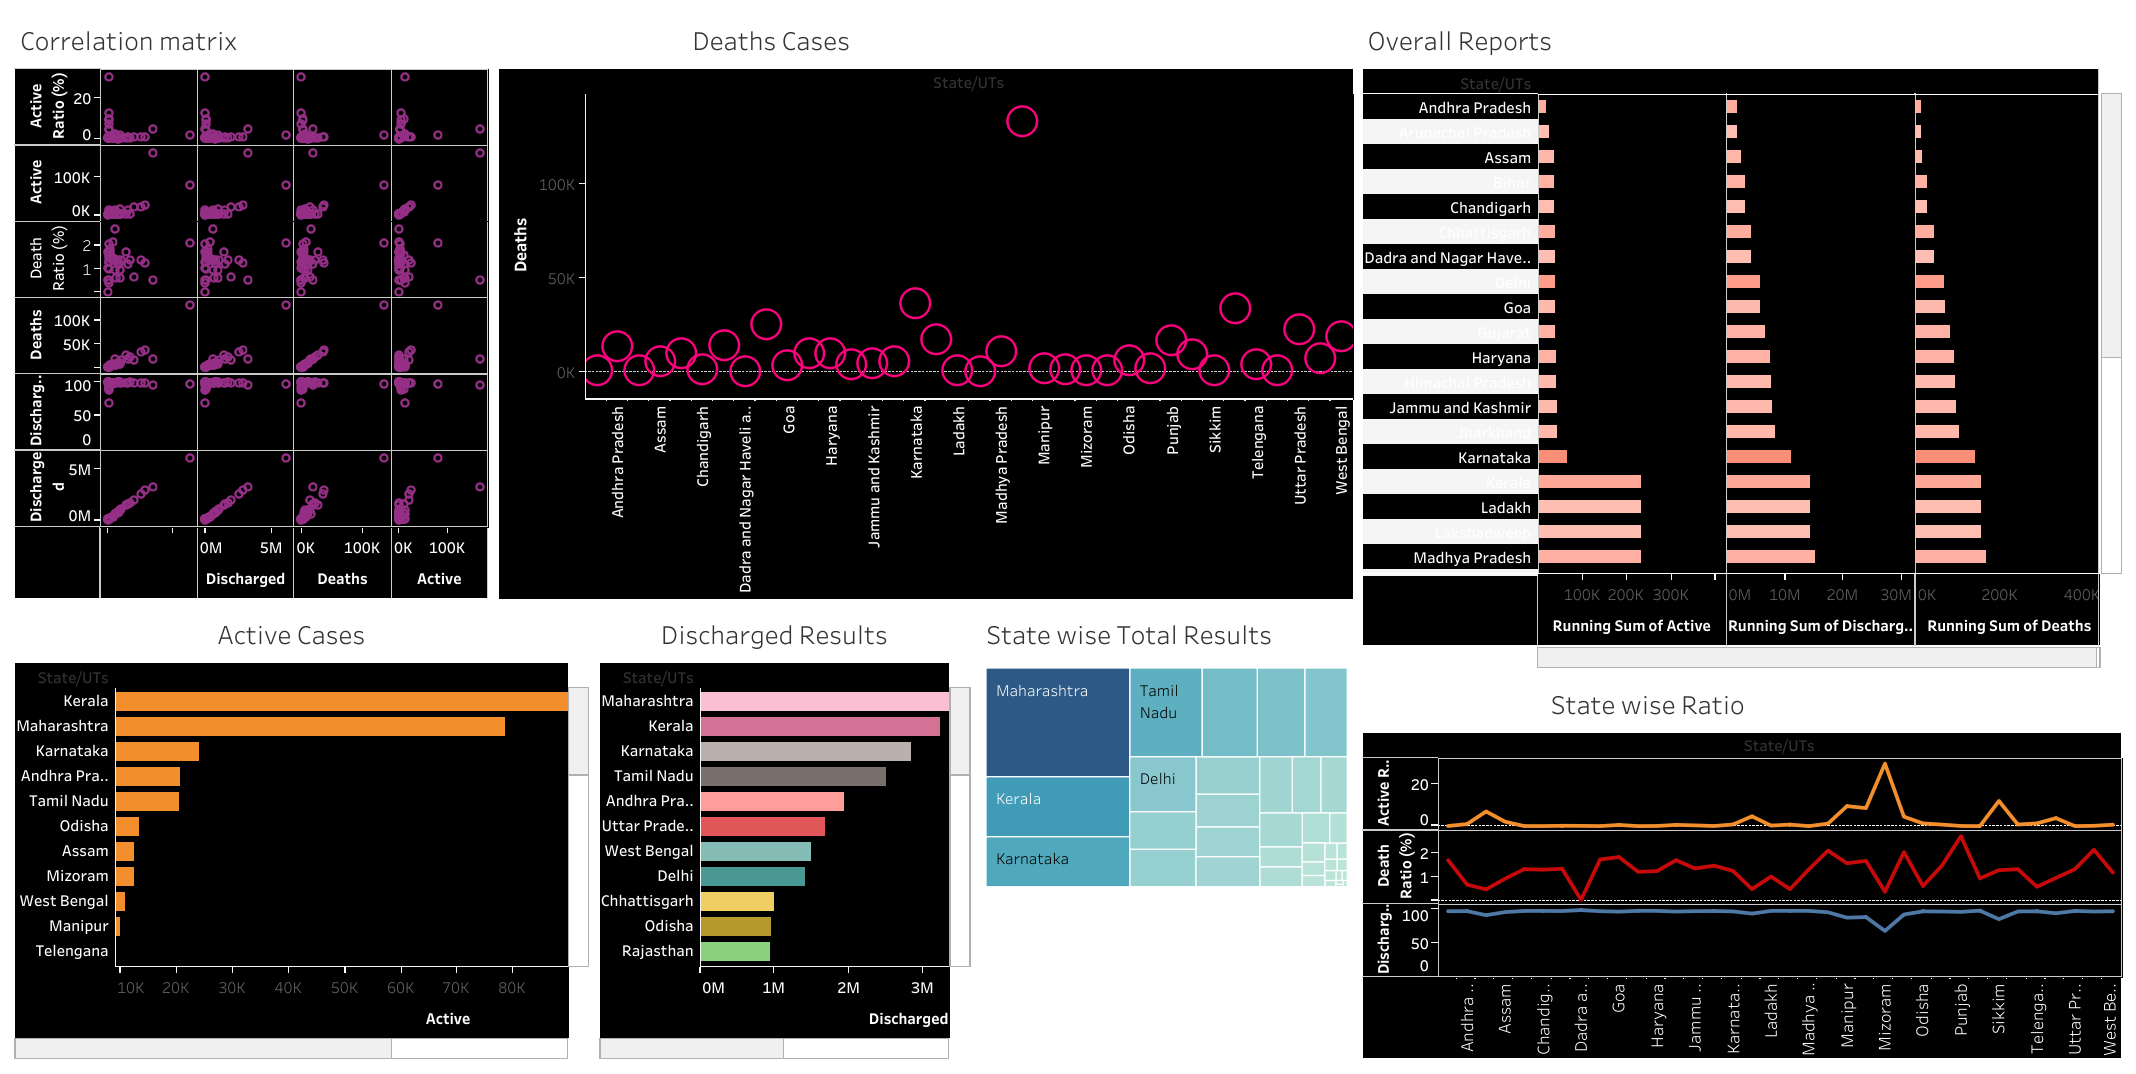

What the dashboard file says about the page in this screenshot:
{"tool":"tableau","page":{"name":"Latest Covid19 Report","canvas":[1000,1000],"units":"permille","ordinal":0},"visuals":[{"type":"worksheet","title":"Correlation matrix","mark":"Shape","rows":["Active Ratio (%)","Active","Death Ratio (%)","Deaths","Discharge Ratio (%)","Discharged"],"cols":["Total Cases","Discharged","Deaths","Active"],"box":[4.7,9.3,245,552]},{"type":"worksheet","title":"Deaths Results","mark":"Shape","rows":["Deaths"],"cols":["State/UTs"],"box":[249.7,9.3,385.4,552]},{"type":"worksheet","title":"Overall Report","mark":"Automatic","rows":["State/UTs"],"cols":["Active","Discharged","Deaths"],"box":[635.1,9.3,360.2,617.4]},{"type":"worksheet","title":"Active Results","mark":"Automatic","rows":["State/UTs"],"cols":["Active"],"box":[4.7,561.3,273.9,429.4]},{"type":"worksheet","title":"Discharged Results","mark":"Automatic","rows":["State/UTs"],"cols":["Discharged"],"box":[278.6,561.3,178.2,429.4]},{"type":"worksheet","title":"Statewise Total Cases","mark":"Automatic","box":[456.9,561.3,178.2,429.4]},{"type":"worksheet","title":"State wise Ratio","mark":"Line","rows":["Active Ratio (%)","Death Ratio (%)","Discharge Ratio (%)"],"cols":["State/UTs"],"box":[635.1,626.7,360.2,364]}]}

Visuals, with their boxes on the dashboard's canvas, which has no fixed pixel size, in thousandths of its width and height (x1, y1, x2, y2). These are canvas units, not pixel positions in the 2136x1074 screenshot, which may show the page scaled, cropped or inside an application window:
"Correlation matrix" worksheet (Shape marks): detection(5, 9, 250, 561)
"Deaths Results" worksheet (Shape marks): detection(250, 9, 635, 561)
"Overall Report" worksheet: detection(635, 9, 995, 627)
"Active Results" worksheet: detection(5, 561, 279, 991)
"Discharged Results" worksheet: detection(279, 561, 457, 991)
"Statewise Total Cases" worksheet: detection(457, 561, 635, 991)
"State wise Ratio" worksheet (Line marks): detection(635, 627, 995, 991)
